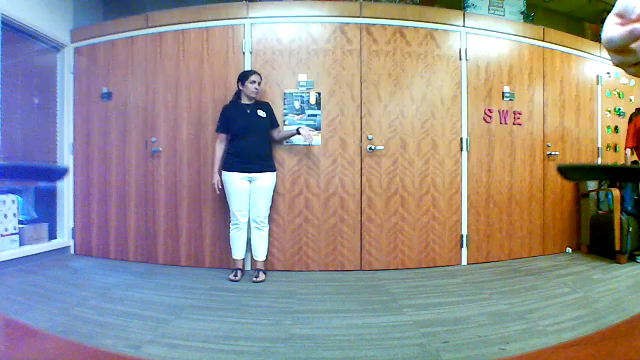land: (290, 121, 324, 148)
